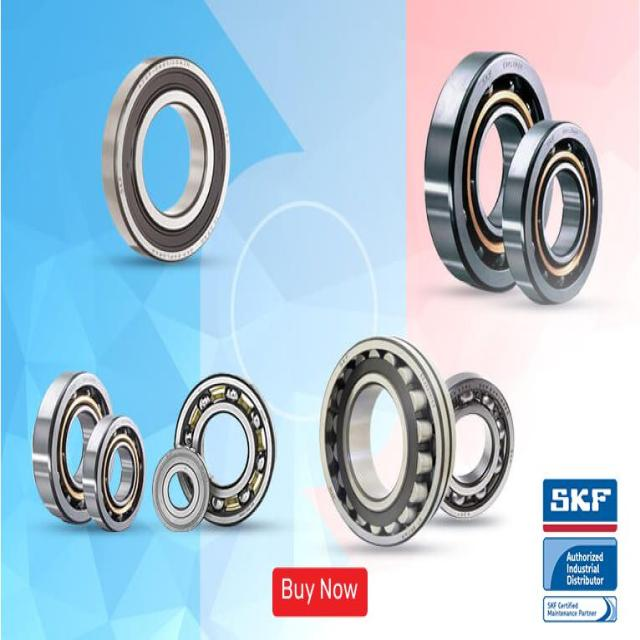Bearing: (422, 49, 558, 293), (320, 336, 456, 549), (102, 53, 231, 265), (502, 118, 604, 306), (173, 372, 276, 527), (32, 370, 115, 526), (440, 370, 516, 521), (85, 414, 145, 535), (153, 447, 210, 535)
